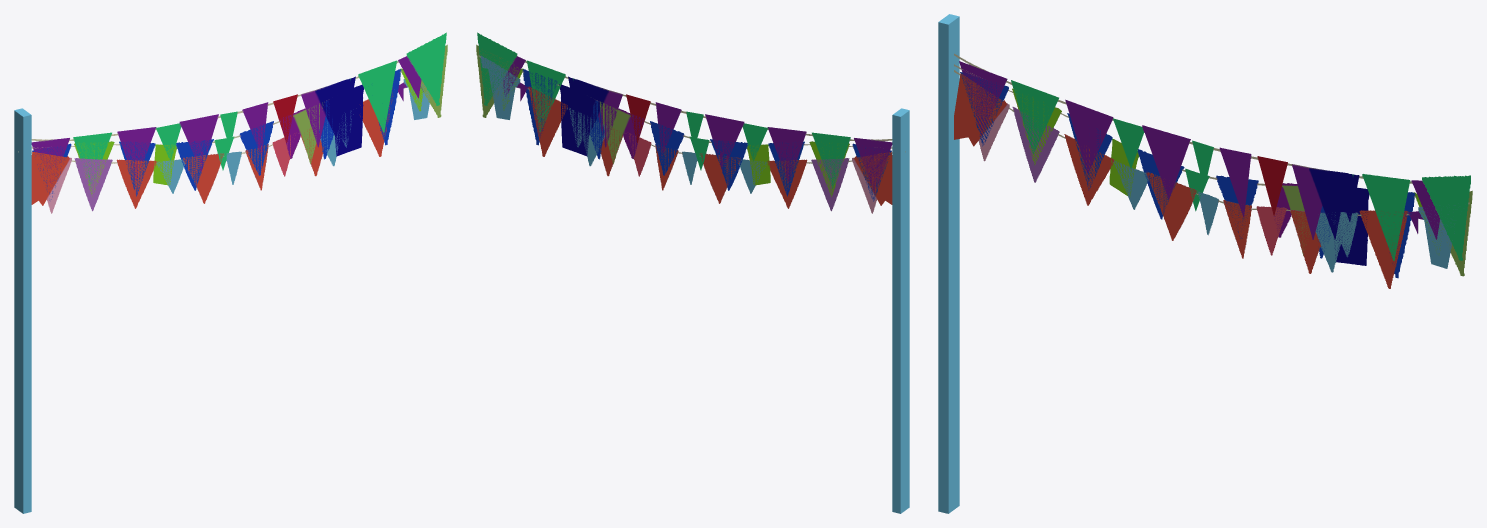
The model's file is GamekaLand_Banner.fbx.
3 renders of one model, left to right at view 1: azimuth 30°, elevation 25°; view 2: azimuth 150°, elevation 25°; view 3: azimuth 330°, elevation 25°, orthographic. The views are drawn at different scales.
Visible parts, largest first — view 1: GamekaLand_Banner_1, GamekaLand_Banner_3, GamekaLand_Banner_2, GamekaLand_Banner_Pillar; view 2: GamekaLand_Banner_1, GamekaLand_Banner_3, GamekaLand_Banner_2, GamekaLand_Banner_Pillar; view 3: GamekaLand_Banner_1, GamekaLand_Banner_3, GamekaLand_Banner_Pillar, GamekaLand_Banner_2.
Boxes of the visible parts, left/top/right/bottom form: GamekaLand_Banner_1: left=31, top=32, right=446, bottom=186; GamekaLand_Banner_3: left=18, top=79, right=430, bottom=213; GamekaLand_Banner_2: left=31, top=44, right=447, bottom=200; GamekaLand_Banner_Pillar: left=14, top=108, right=31, bottom=513; GamekaLand_Banner_1: left=477, top=32, right=892, bottom=193; GamekaLand_Banner_3: left=478, top=55, right=905, bottom=213; GamekaLand_Banner_2: left=476, top=44, right=892, bottom=201; GamekaLand_Banner_Pillar: left=892, top=108, right=909, bottom=513; GamekaLand_Banner_1: left=954, top=53, right=1470, bottom=260; GamekaLand_Banner_3: left=954, top=70, right=1469, bottom=288; GamekaLand_Banner_Pillar: left=938, top=14, right=959, bottom=513; GamekaLand_Banner_2: left=954, top=64, right=1472, bottom=278.
Size of the model in its own units: 11.51 by 10.17 by 0.4209.
